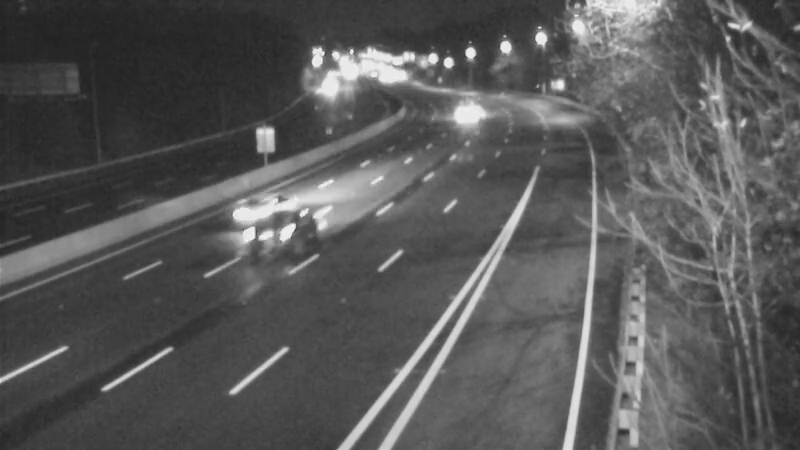vehicle: (212, 163, 292, 243), (237, 195, 317, 275), (441, 81, 491, 131)
